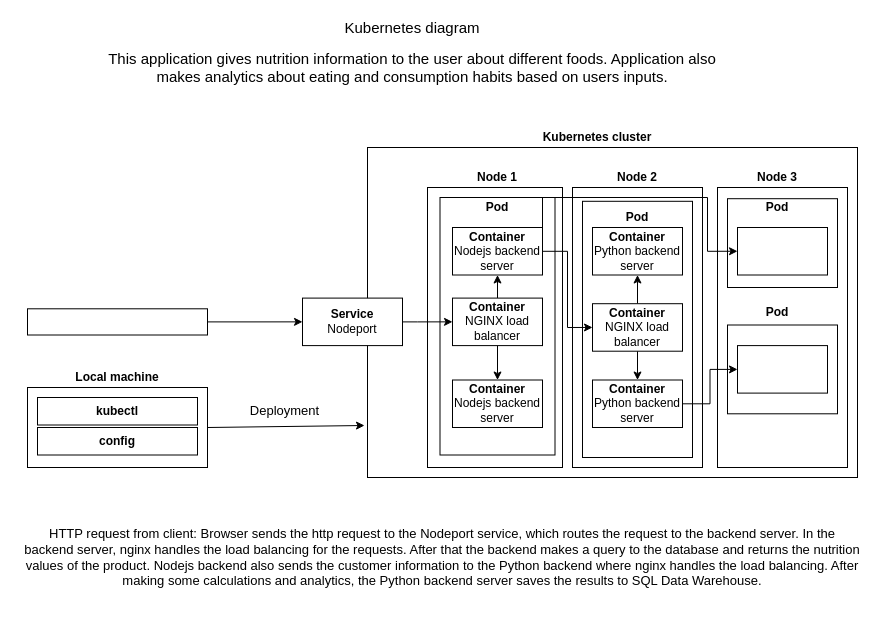
This 879x624 diagram has some shape labels left out. The box of each missing label's shape, as (x1, y1, x2, y2) in pixels:
Client / browser: (26, 308, 208, 335)
Container Postgres database server: (736, 226, 828, 275)
Container SQL Data warehouse: (736, 345, 828, 393)
